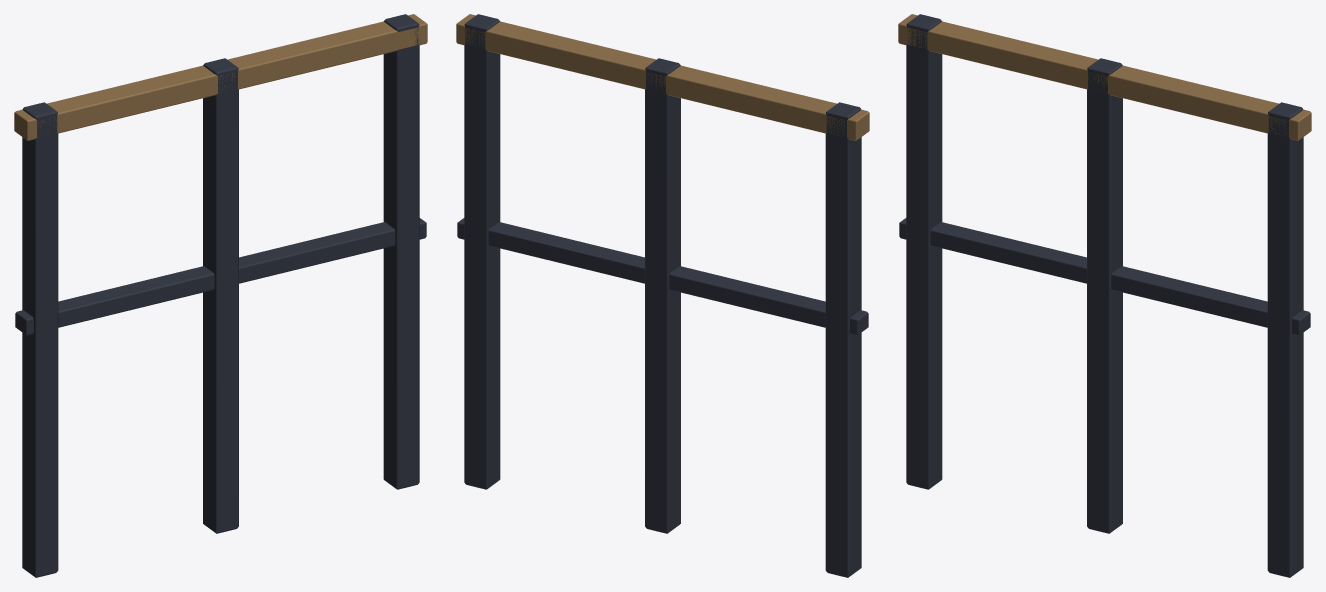
The model's file is railcar-wall-boundary.2db0c922.glb.
3 views of the same model, side by side, from view 1: azimuth 30°, elevation 25°; view 2: azimuth 150°, elevation 25°; view 3: azimuth 330°, elevation 25° (orthographic).
Visible parts, largest first — view 1: body; view 2: body; view 3: body.
Part boxes in pixels (x1,y1,x2,y2): body: [14, 14, 427, 577]; body: [456, 14, 869, 577]; body: [898, 14, 1311, 577].
Bounding box in the file's own units: 1 × 1.1 × 0.06.
